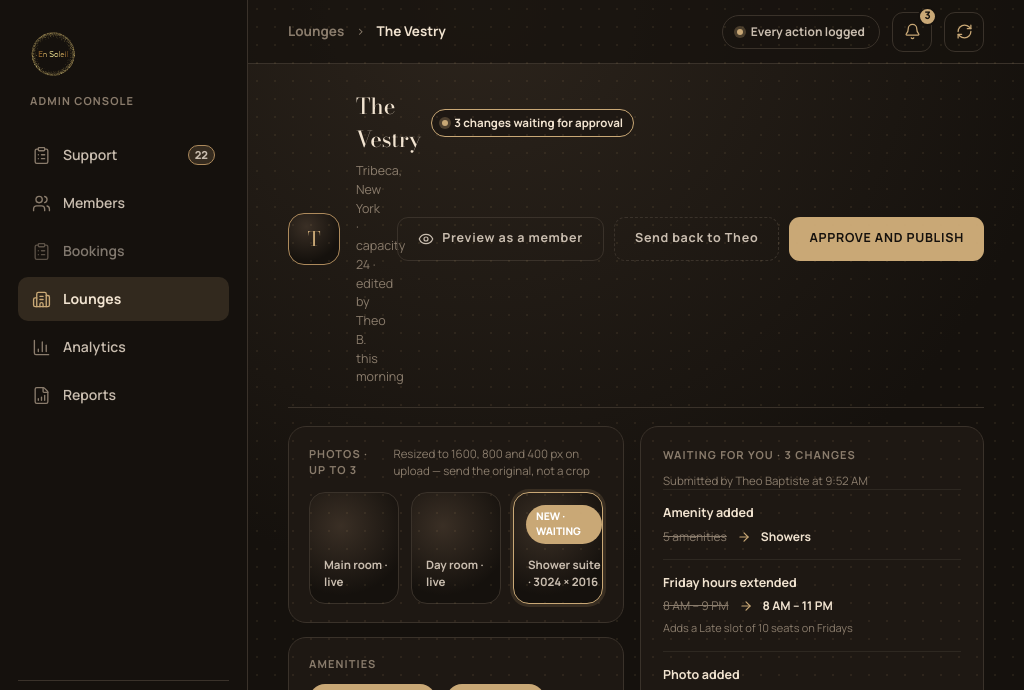
Lounge editor (/admin/lounges/[id]) › sends the changes back to their author
Click the button "Send back to Theo" at x=697, y=238, box [614,216,779,260]
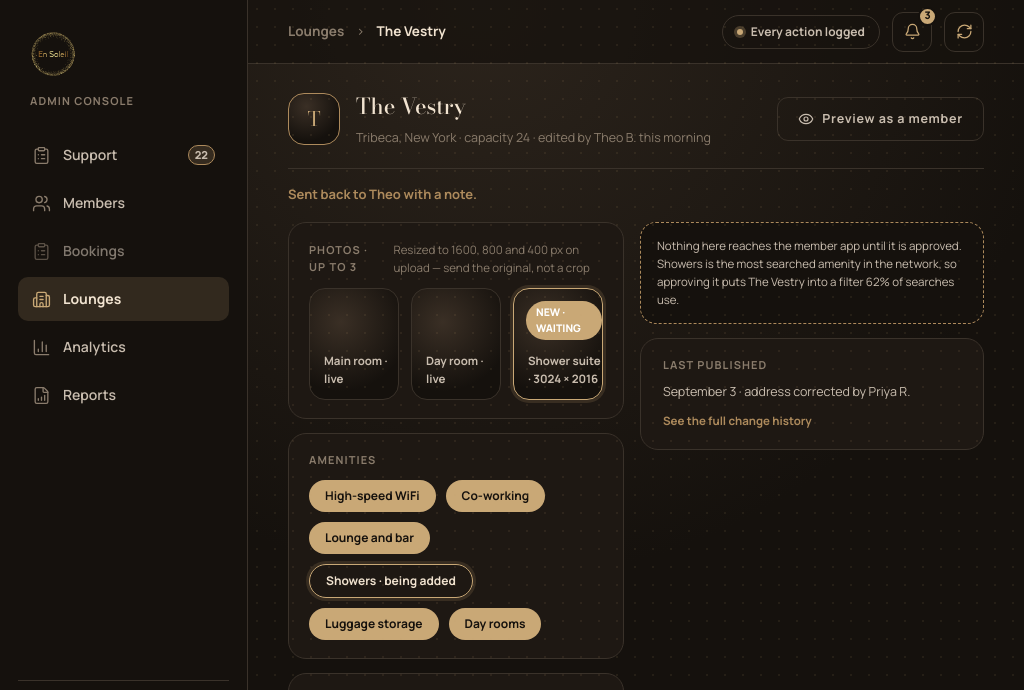
Check: the text "3 changes waiting for approval" is gone
Check: the text "Sent back to Theo with a note." is shown, box [288,185,477,203]
